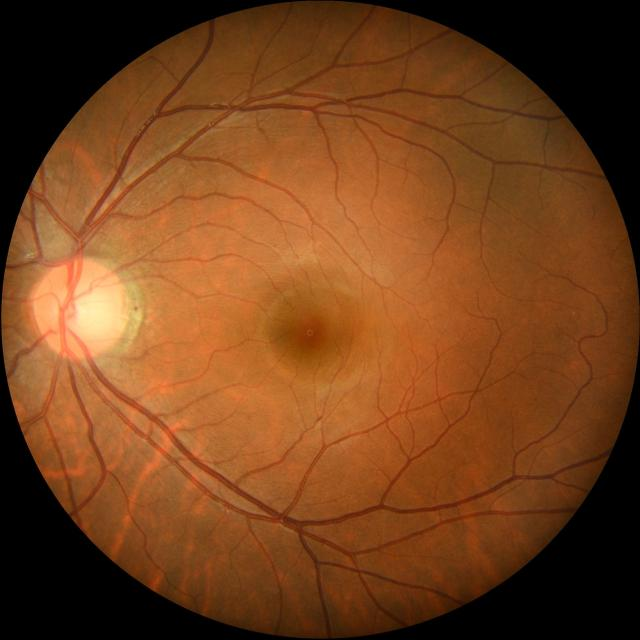OC: (63, 286, 104, 332)
OD: (33, 258, 128, 357)
